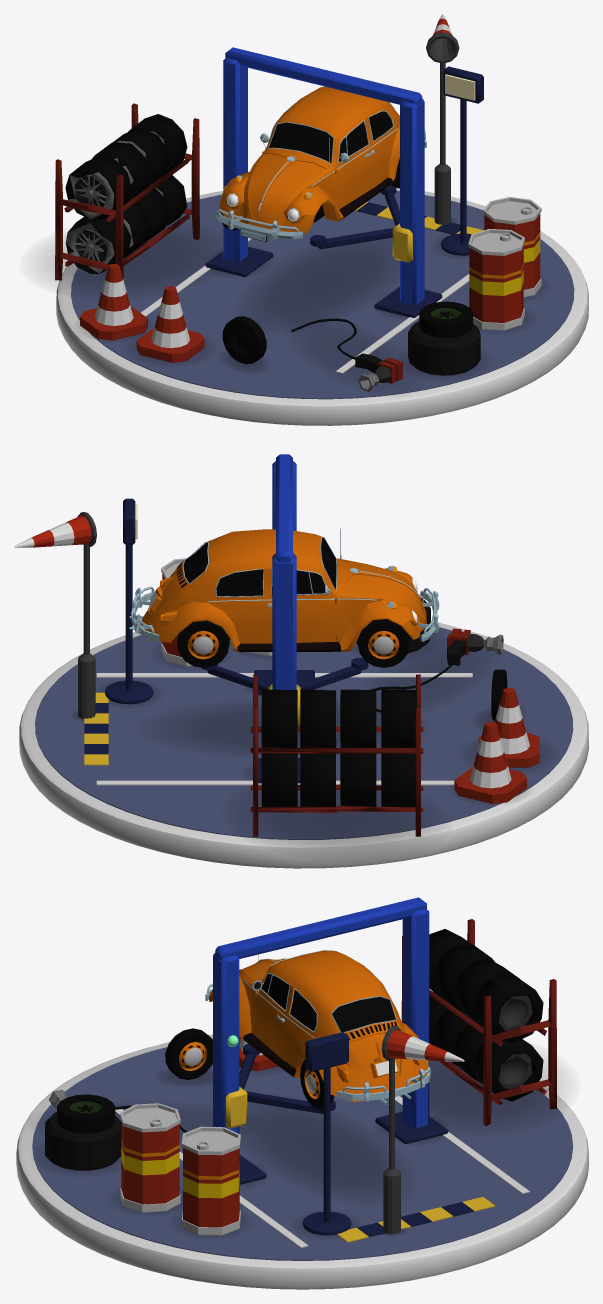
The model's file is car_service.glb.
3 views of the same model, one above another, from view 1: azimuth 30°, elevation 25°; view 2: azimuth 150°, elevation 25°; view 3: azimuth 270°, elevation 25° (orthographic). The views are drawn at different scales.
Visible parts, largest first — view 1: matte, shadow, glow; view 2: matte, shadow, glow; view 3: matte, shadow.
Boxes of the visible parts, box(x1,y1,x2,y2) form: matte: box(55, 14, 588, 425); shadow: box(45, 218, 541, 377); glow: box(227, 74, 475, 220); matte: box(14, 454, 588, 868); shadow: box(74, 637, 547, 852); glow: box(135, 504, 417, 624); matte: box(16, 897, 588, 1289); shadow: box(43, 1061, 557, 1236).
Size of the model in its own units: 4.7 by 2.29 by 4.72.
